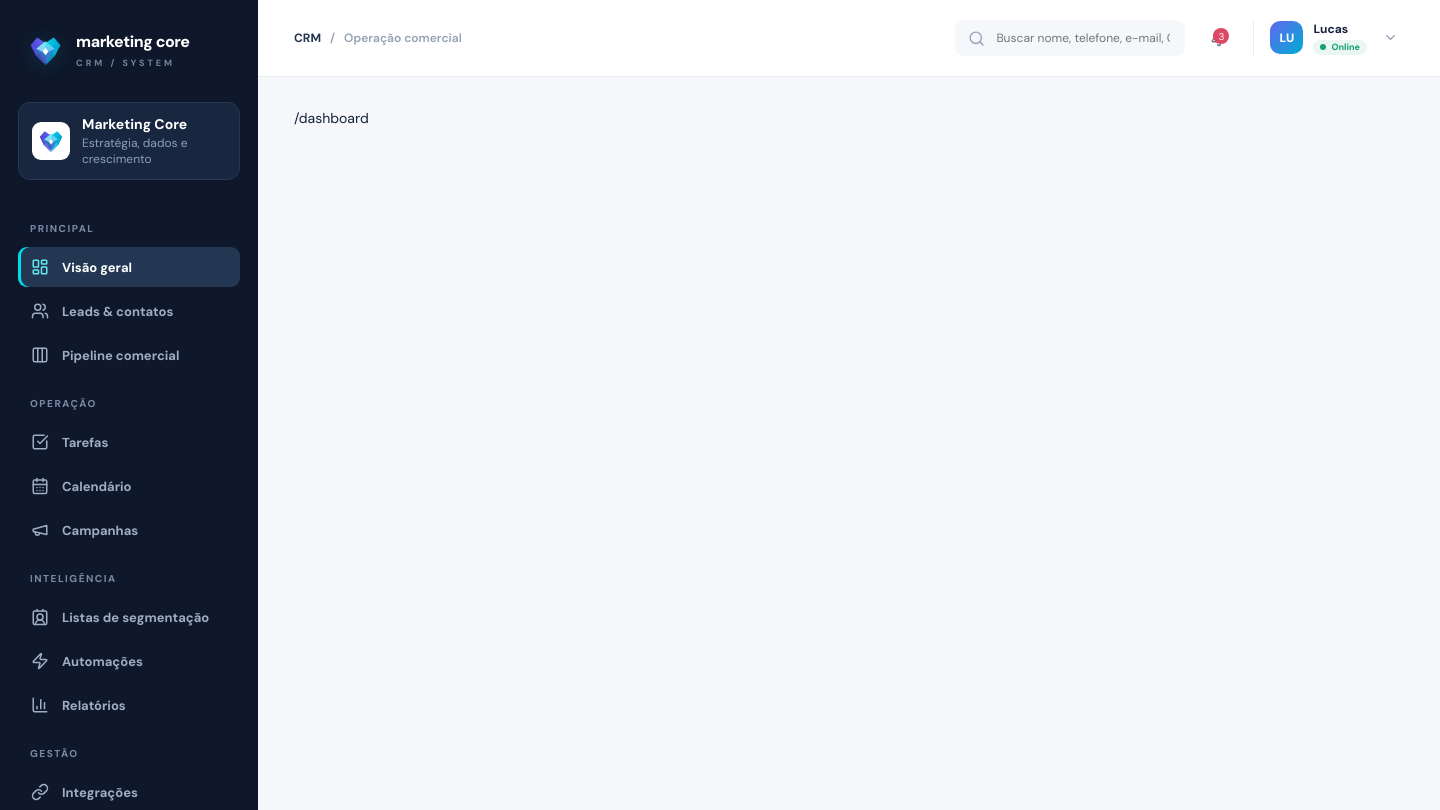
AppShell › abre a central com todas as notificações
Click the button named "Notificações".
click(1219, 38)  # box [1204,23,1234,53]
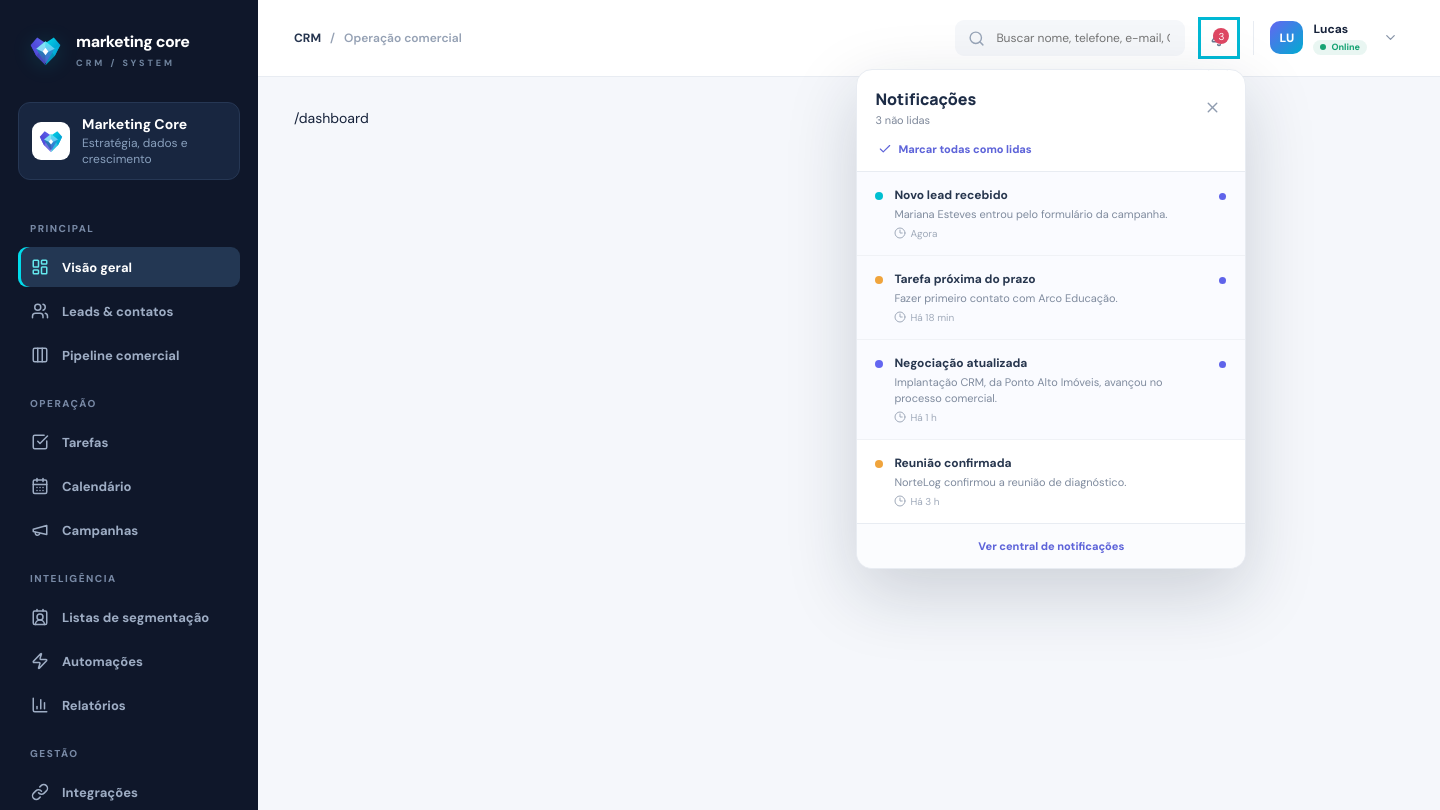
Click the button "Ver central de notificações".
click(1051, 546)  # box [975,536,1127,556]
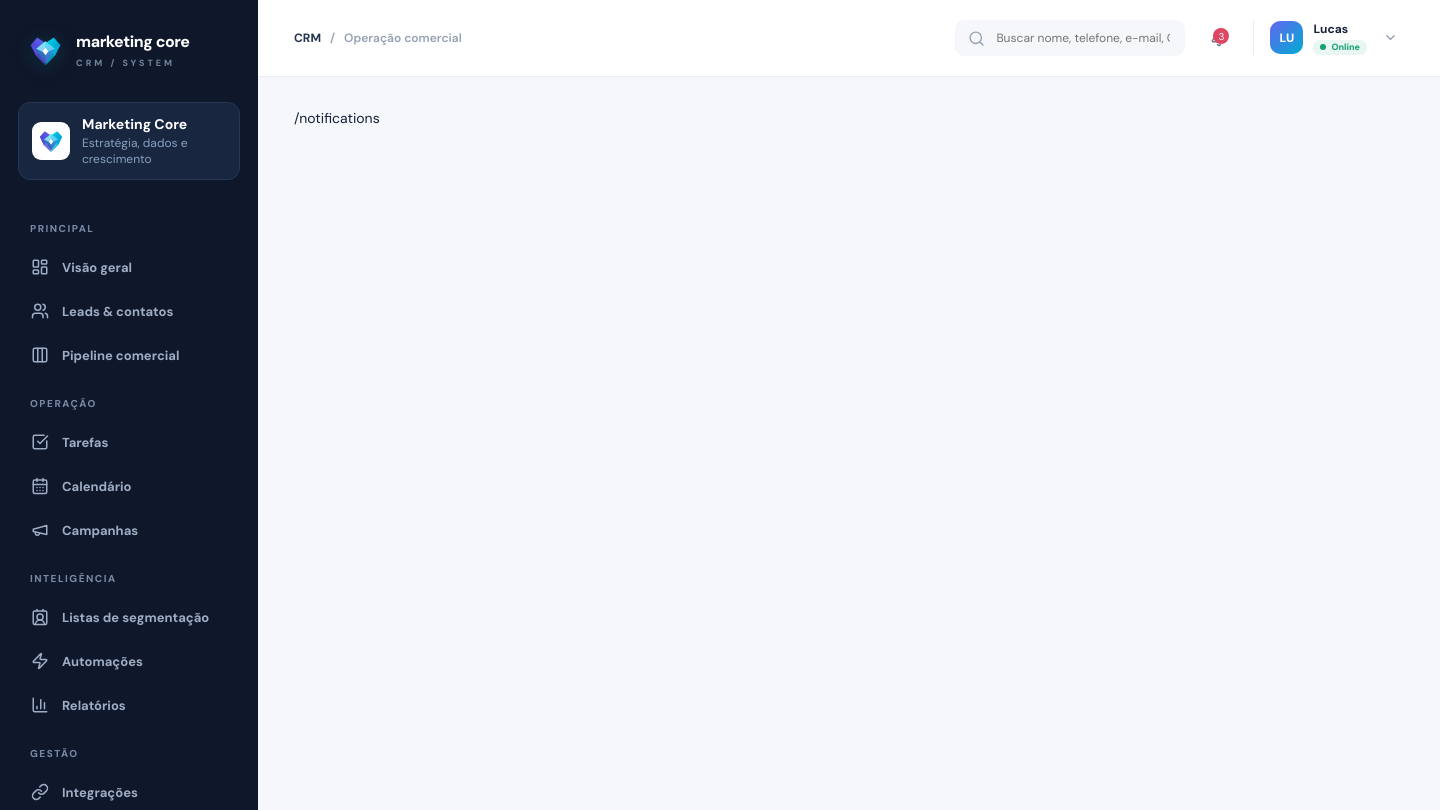
Check: the text with test id "current-location" reads "/notifications", box [294,109,380,127]
